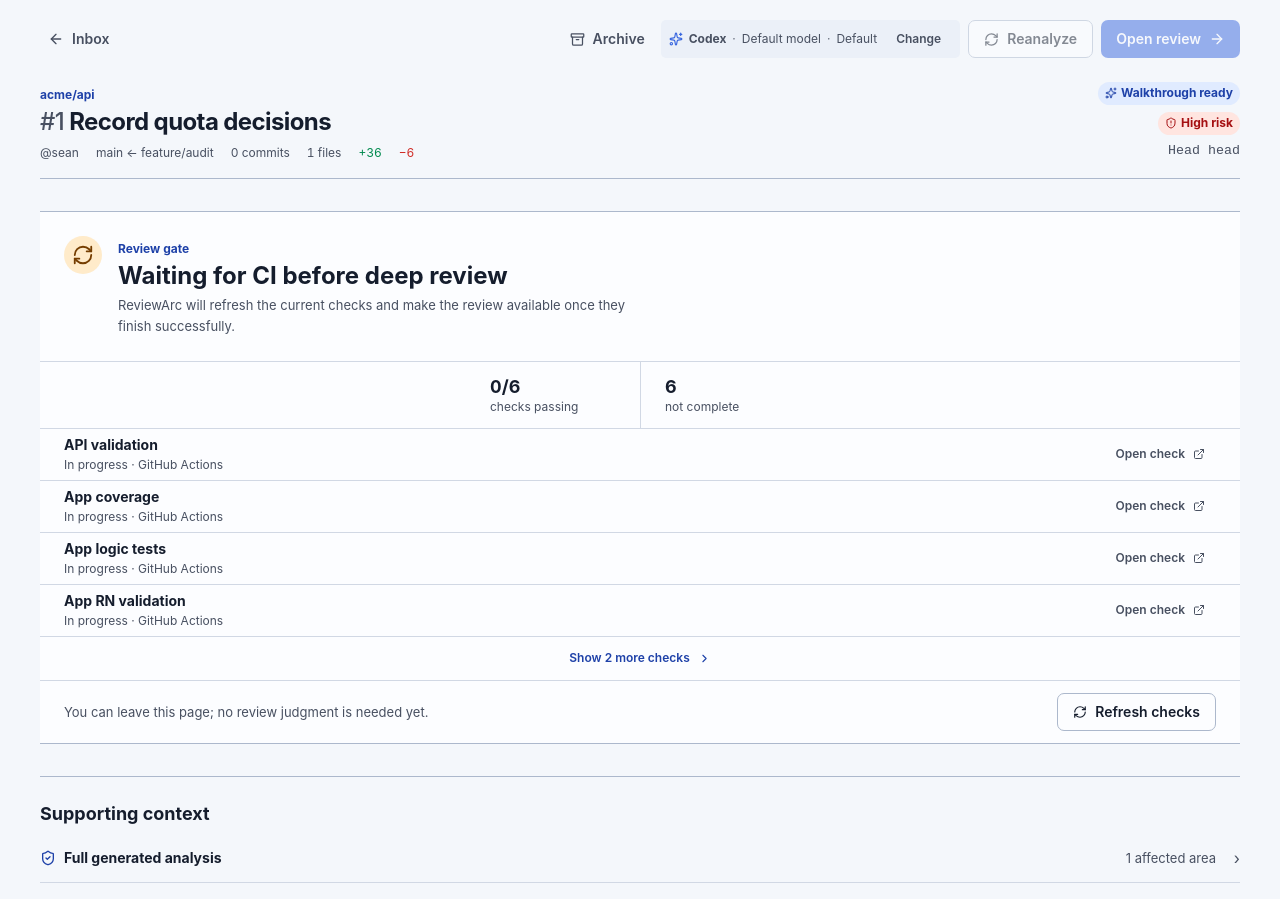
Review brief and chapter reader › labels check states and reveals additional CI checks on demand
The image size is (1280, 899).
Expected: the text "In progress · GitHub Actions" is shown 4 times, [64,457,223,472]; [64,509,223,524]; [64,561,223,576]; [64,613,223,628]
Expected: the text "App web validation" is not shown
Click the button with aria-label "Show all 6 incomplete checks" at x=640, y=658, box [558,642,722,674]
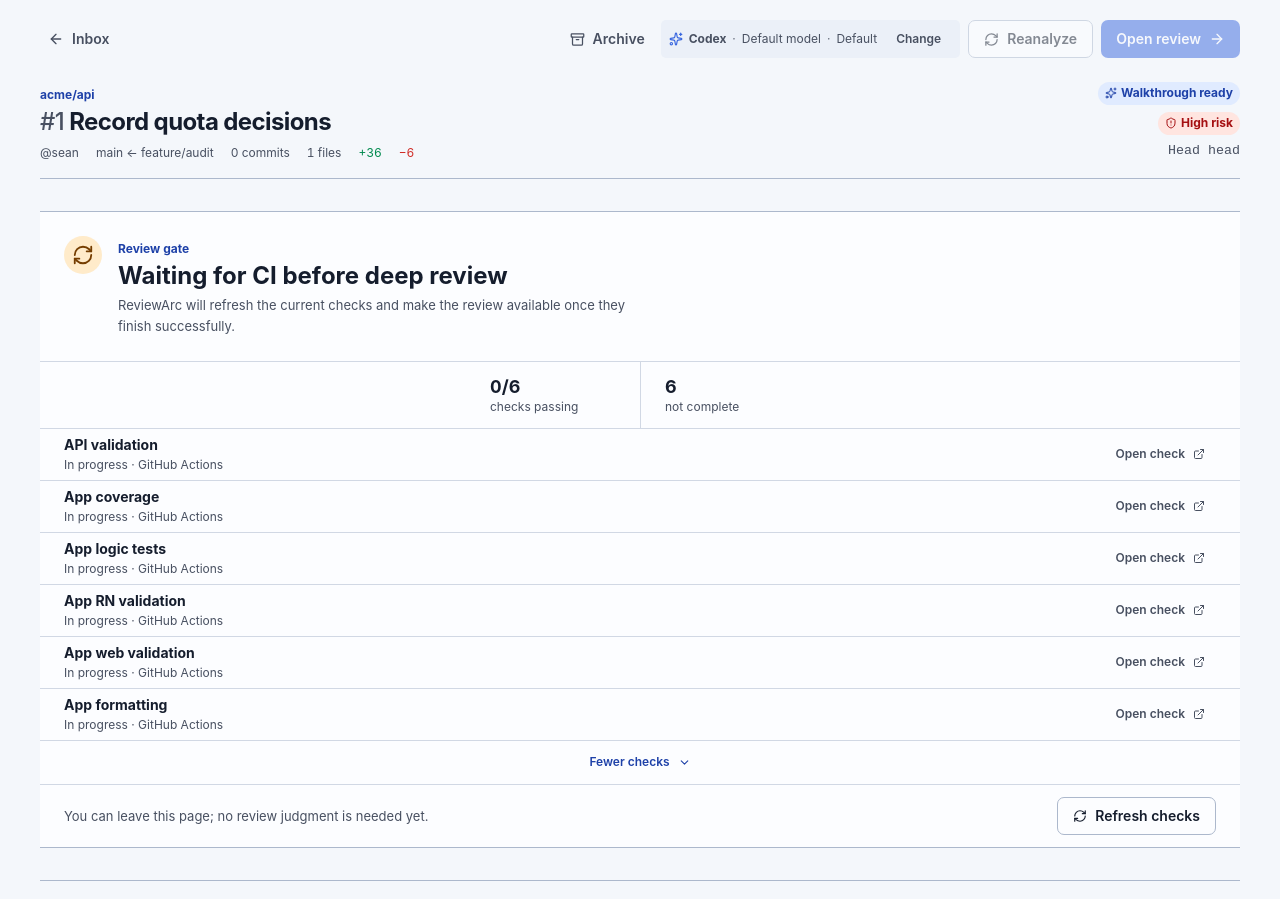
Expected: the text "App web validation" is shown, [64,644,195,661]
Expected: the button with aria-label "Show fewer checks" is shown, [578,746,702,778]
Expected: the button with aria-label "Open App web validation check" is shown, [1105,646,1216,678]
